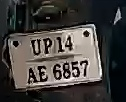1: (55, 35, 64, 54)
4: (63, 35, 74, 52)
5: (71, 61, 82, 80)
6: (50, 63, 62, 82)
7: (80, 59, 91, 78)
8: (60, 61, 71, 80)
A: (24, 66, 37, 84)
E: (35, 65, 51, 84)
P: (42, 37, 53, 56)
U: (28, 38, 41, 56)
